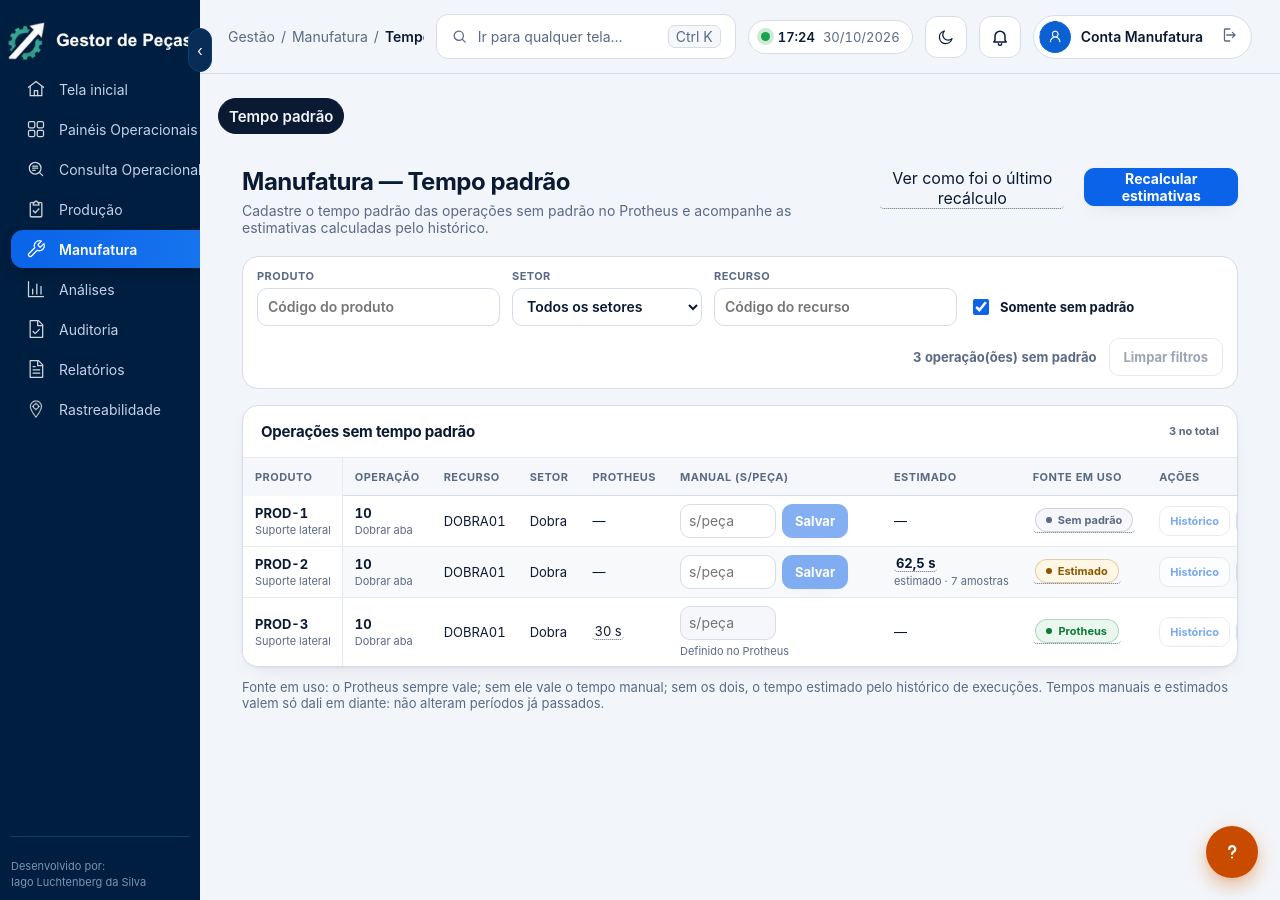
Tempo padrão — tela › salva o valor com vírgula decimal pt-BR como número, com CSRF e observação
The image size is (1280, 900).
Expected: the text "PROD-1" is shown, [255,505,308,521]
Type "45,5" into the field named "Tempo manual em segundos por peça: PROD-1" at coordinates (728, 521), box [680,504,776,538]
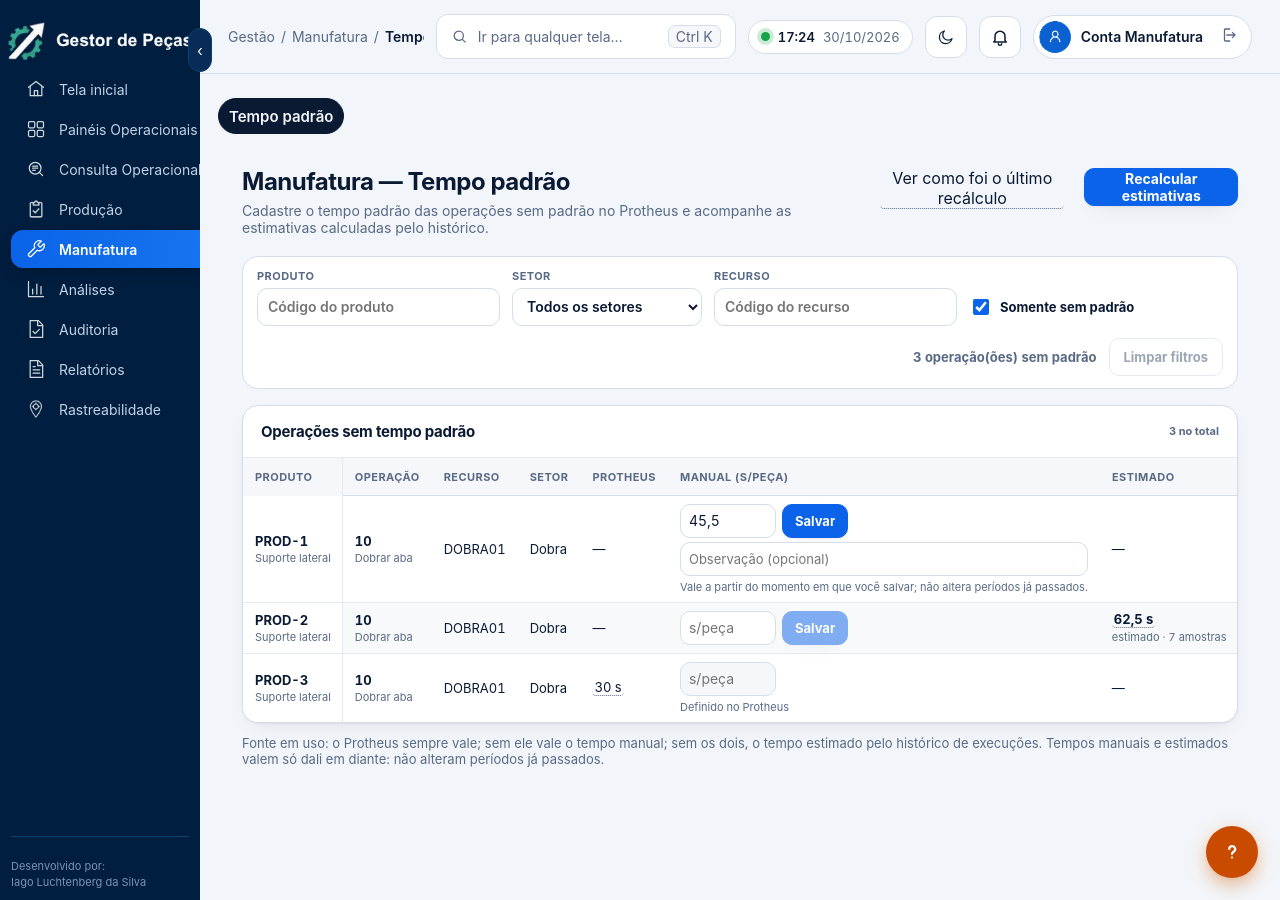
Type "medido na bancada" into the field named "Observação do tempo manual: PROD-1" at coordinates (884, 559), box [680,542,1088,576]
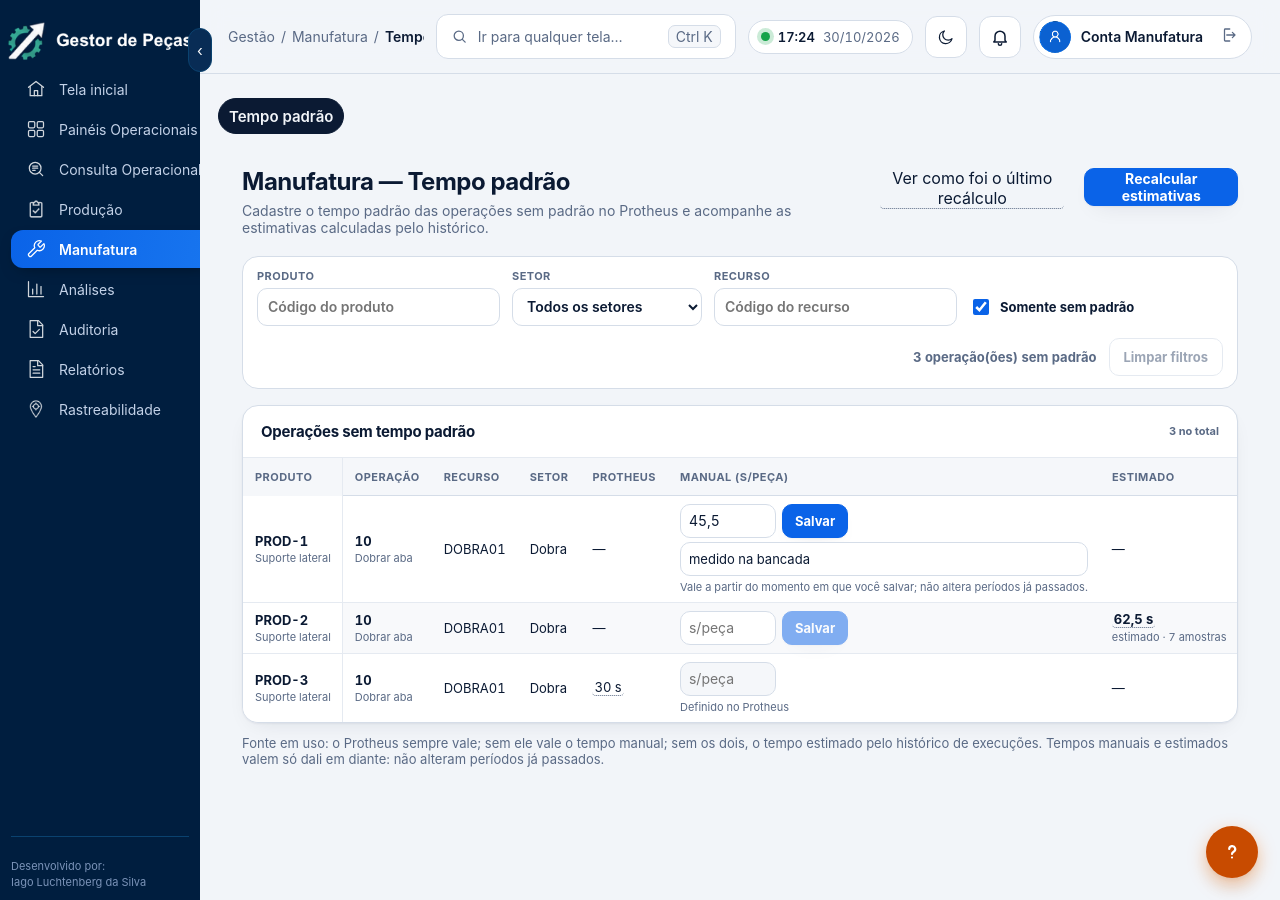
Click the button "Salvar" in the row of "PROD-1" at coordinates (815, 521), box [782,504,848,538]
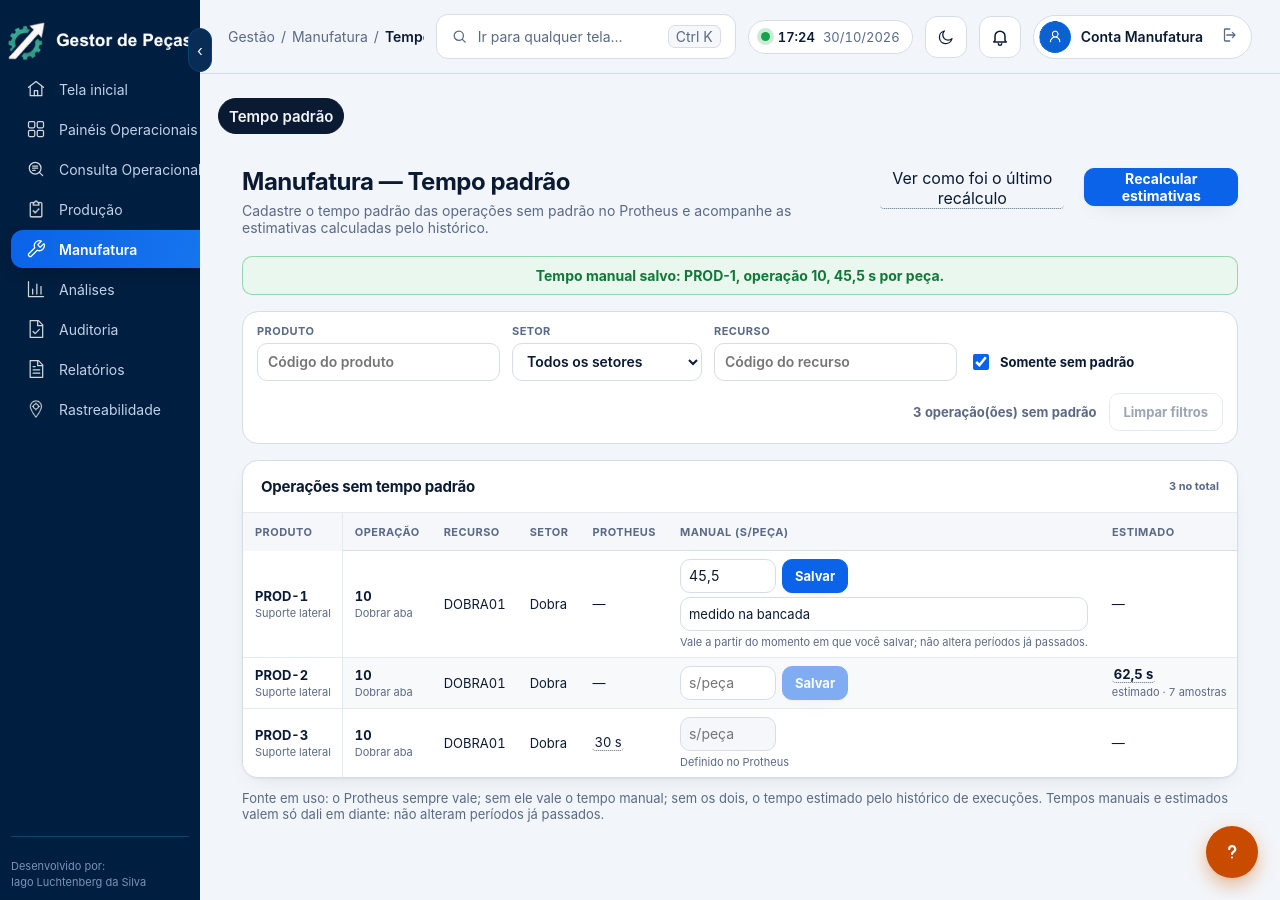
Expected: the text "Tempo manual salvo: PROD-1, operação 10, 45,5 s por peça." is shown, [242,256,1238,295]
